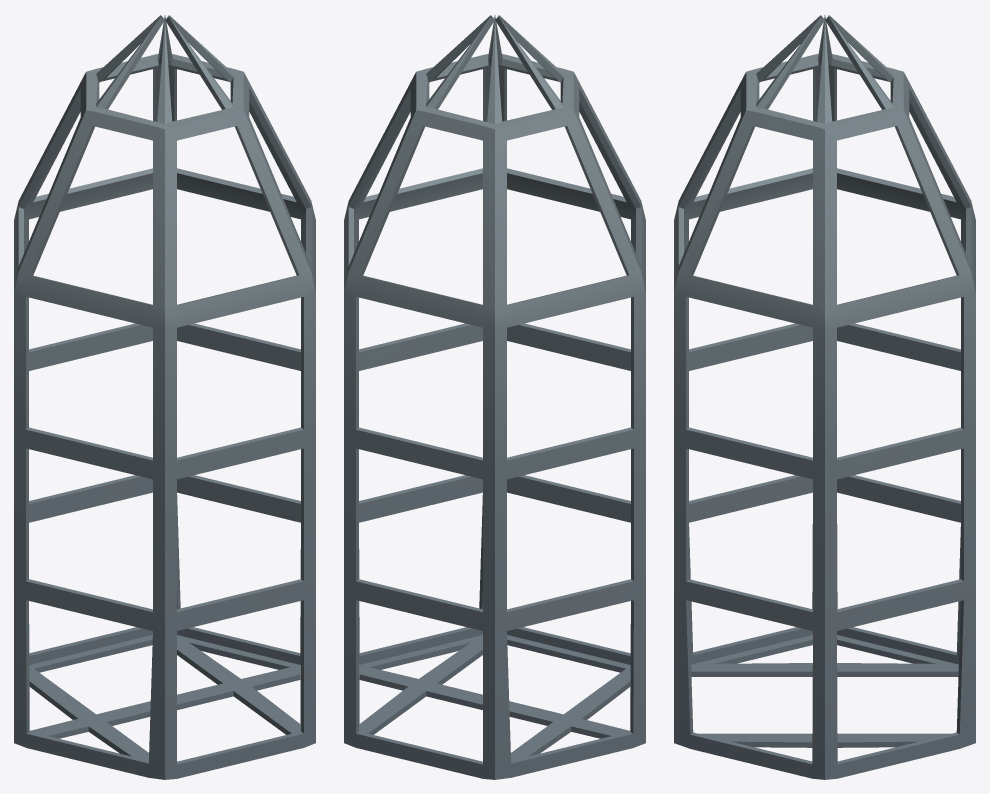
3 views of the same model, side by side, from view 1: azimuth 30°, elevation 25°; view 2: azimuth 150°, elevation 25°; view 3: azimuth 270°, elevation 25° (orthographic).
Parts seen in each view (by area): view 1: Cylinder; view 2: Cylinder; view 3: Cylinder.
Boxes of the visible parts, x1,y1,x2,y2 form: Cylinder: (14,15,315,779); Cylinder: (344,15,645,779); Cylinder: (674,15,975,779).
Size of the model in its own units: 25.18 by 55.15 by 21.81.
